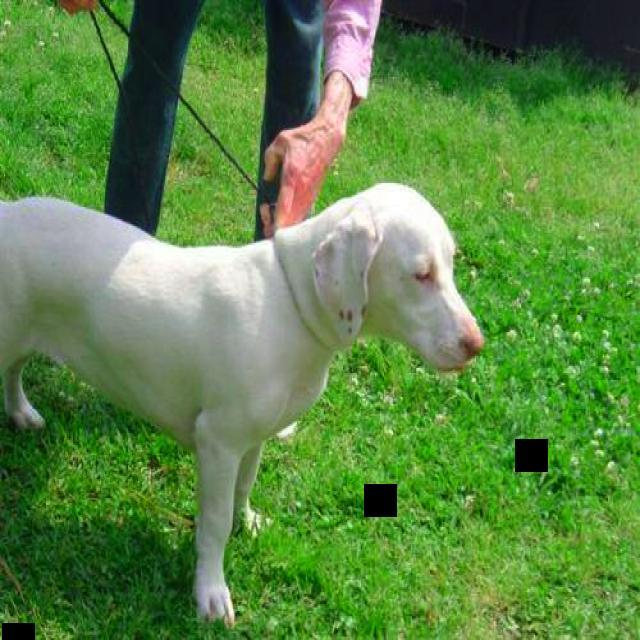adult_dog: (0, 174, 487, 631)
non-dog: (55, 2, 381, 244)
